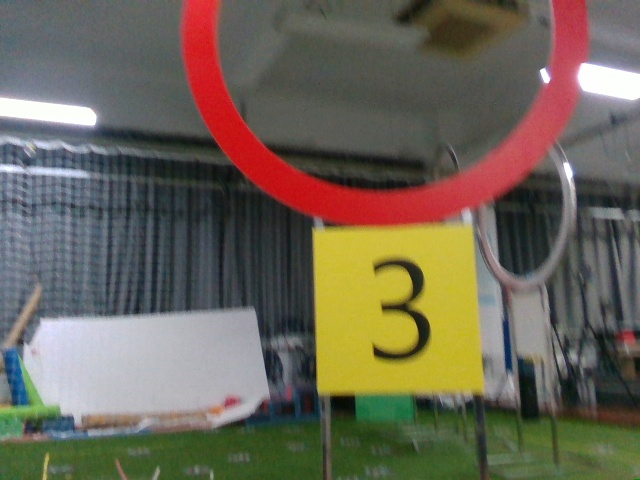target: (317, 233, 477, 395)
